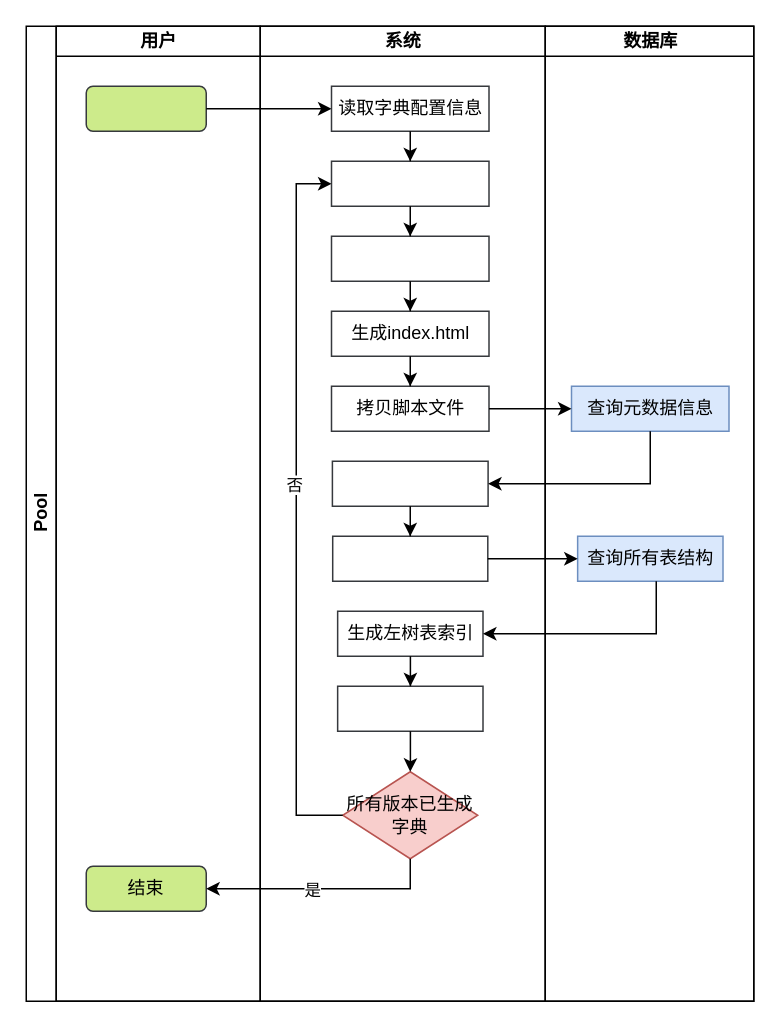
Some shapes in this 780 by 1028 pixel diagram are drawn without their labels. The shapes that lost their labels are listed below. From the top down, each one's centre as x and y in pixels, then its label:
the point at 145,108: 开始
the point at 409,183: 初始化数据库连接
the point at 409,258: 清空/生成 目标目录
the point at 409,483: 生成左树模块、实体索引
the point at 409,558: 生成实体字典文件
the point at 409,708: 生成表字典文件
